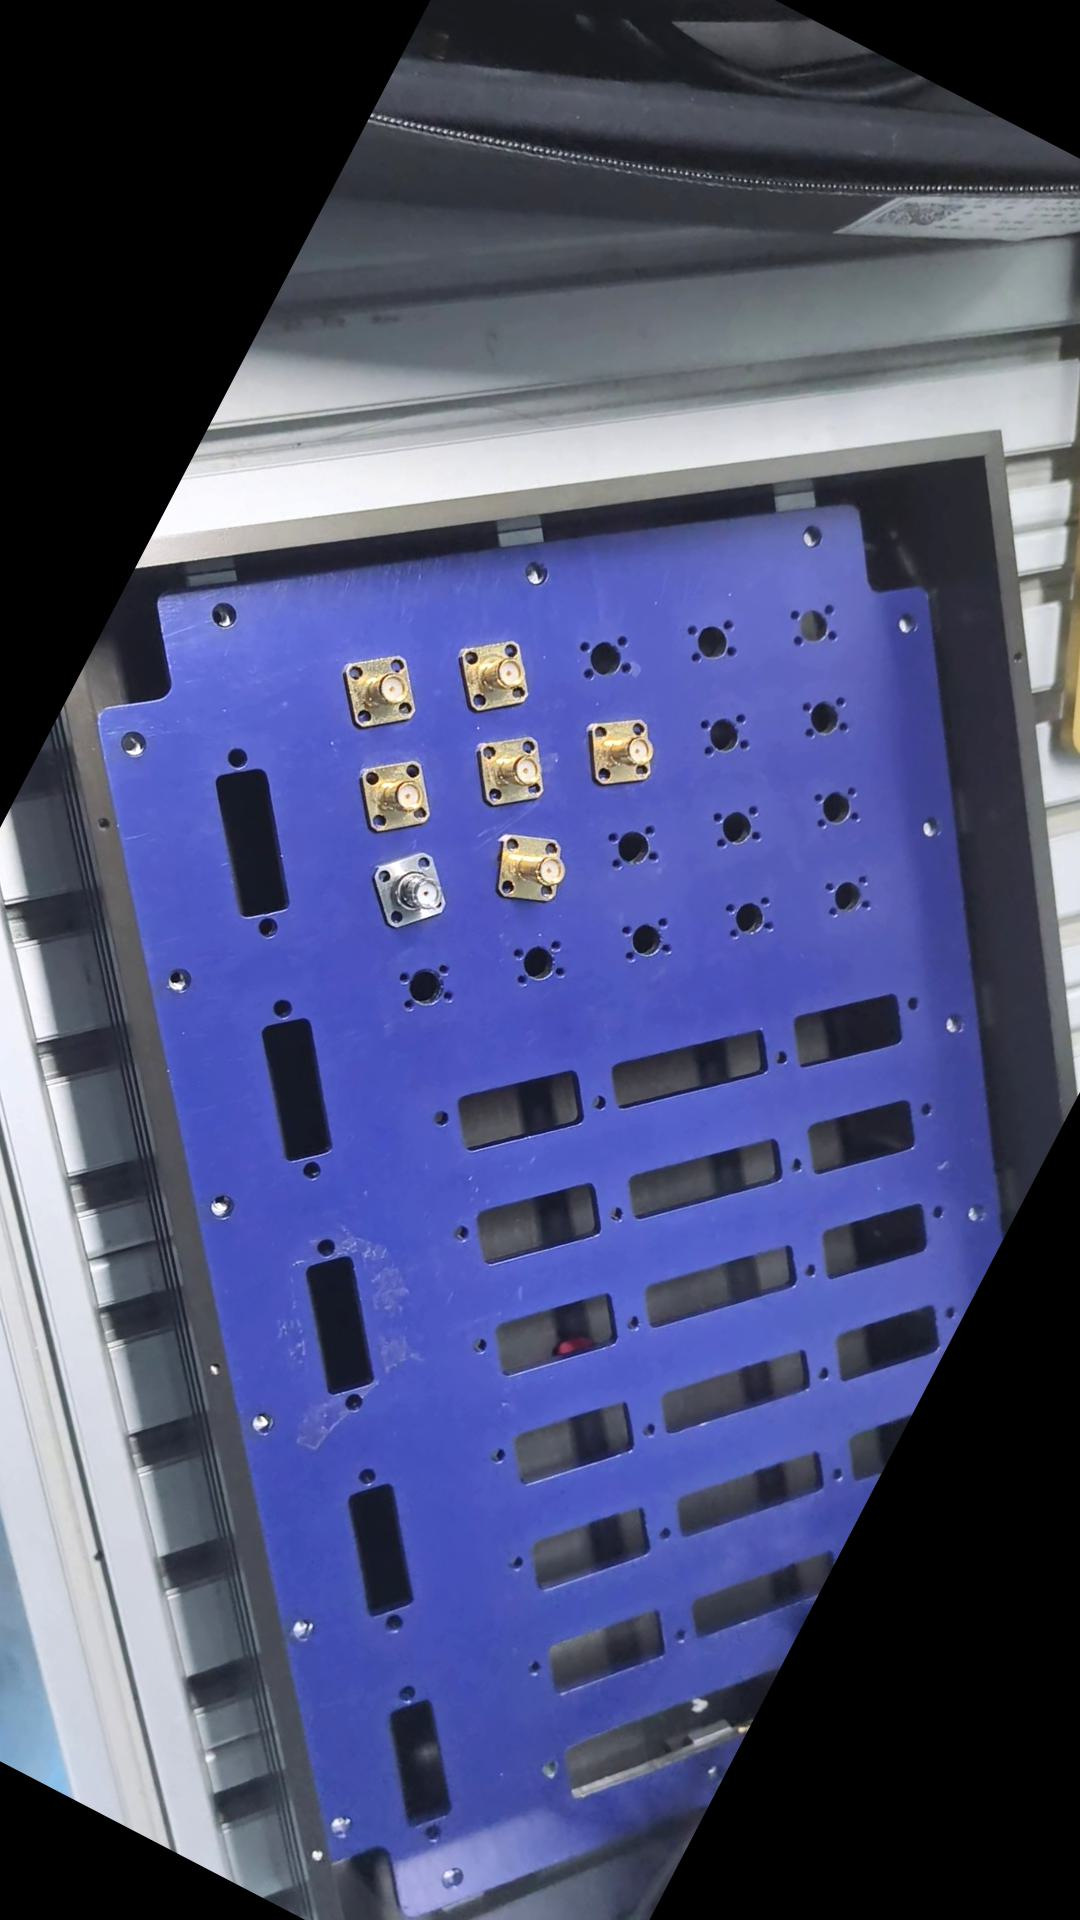SMA: (322, 632, 440, 749), (338, 735, 456, 849), (359, 832, 472, 945), (570, 698, 680, 808), (440, 621, 553, 731), (462, 715, 568, 824), (483, 819, 582, 920)
